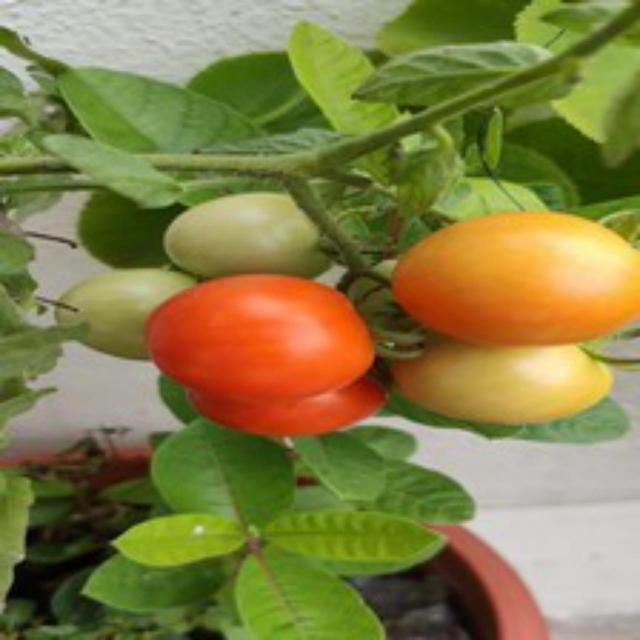tomato: (146, 260, 377, 402)
